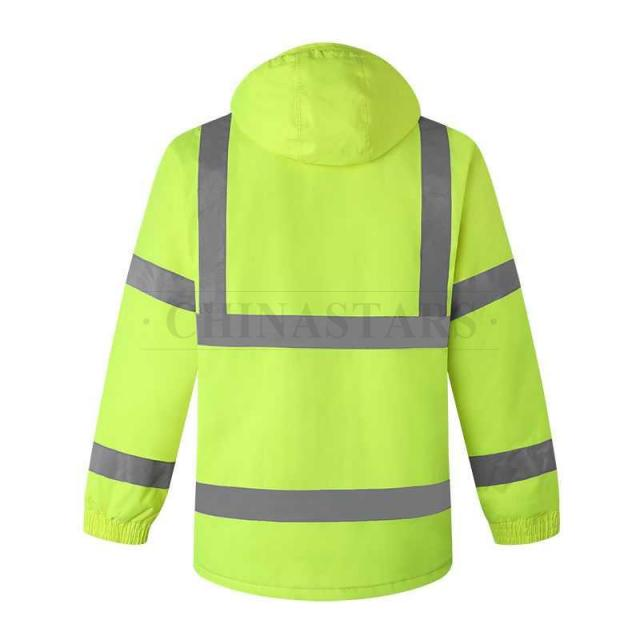Reflective-Jacket: (69, 44, 587, 624)
